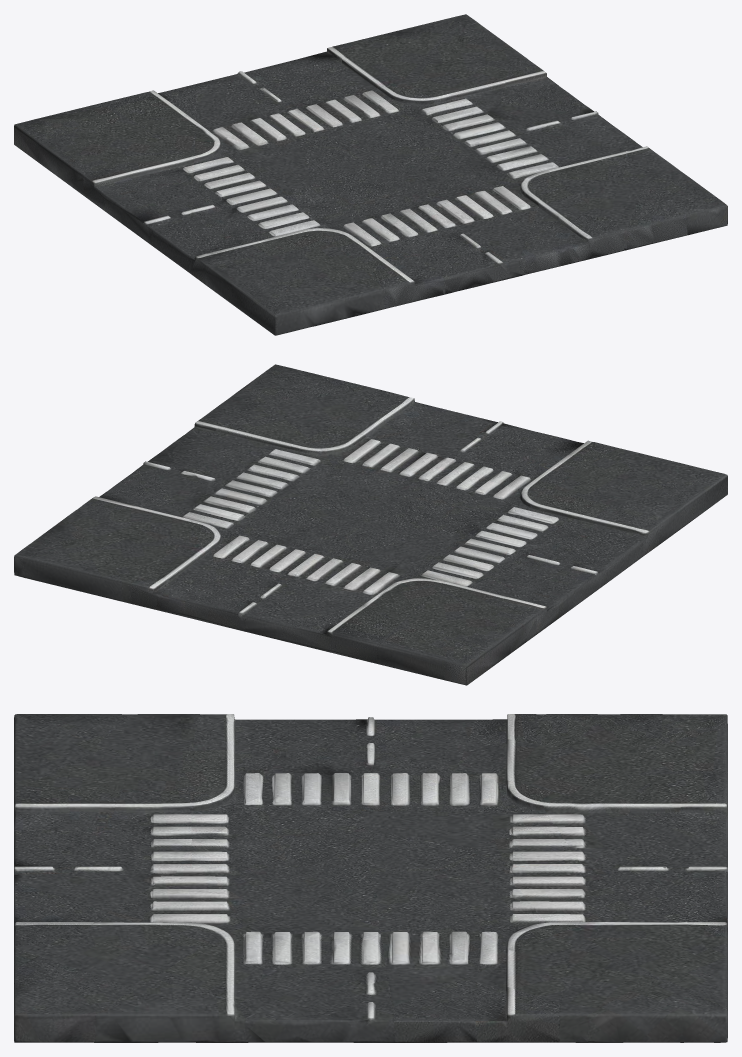
Rendered from roadx_lod1.glb.
3 views of the same model, one above another, from view 1: azimuth 30°, elevation 25°; view 2: azimuth 150°, elevation 25°; view 3: azimuth 270°, elevation 25° (orthographic). The views are drawn at different scales.
Parts seen in each view (by area): view 1: mesh_node; view 2: mesh_node; view 3: mesh_node.
Boxes of the visible parts, x1,y1,x2,y2 form: mesh_node: (14, 14, 727, 335); mesh_node: (14, 364, 727, 685); mesh_node: (14, 714, 727, 1042).
Bounding box in the file's own units: 1.9 × 0.3397 × 1.9.
Materials: 1 (1 with a texture image).
